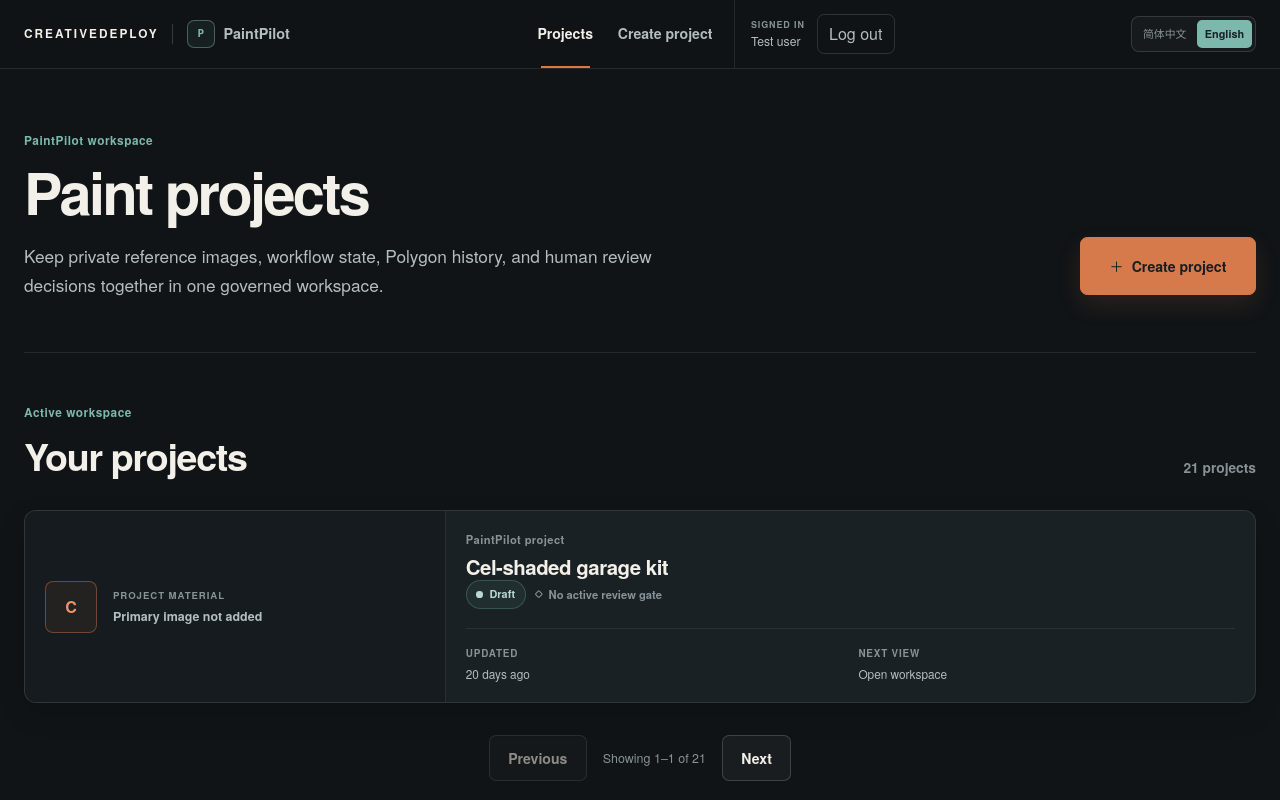
Test: Projects workspace › uses the server envelope to request the next page
Click the button "Next": click(757, 758) [722,735,791,781]
(page scrolled)
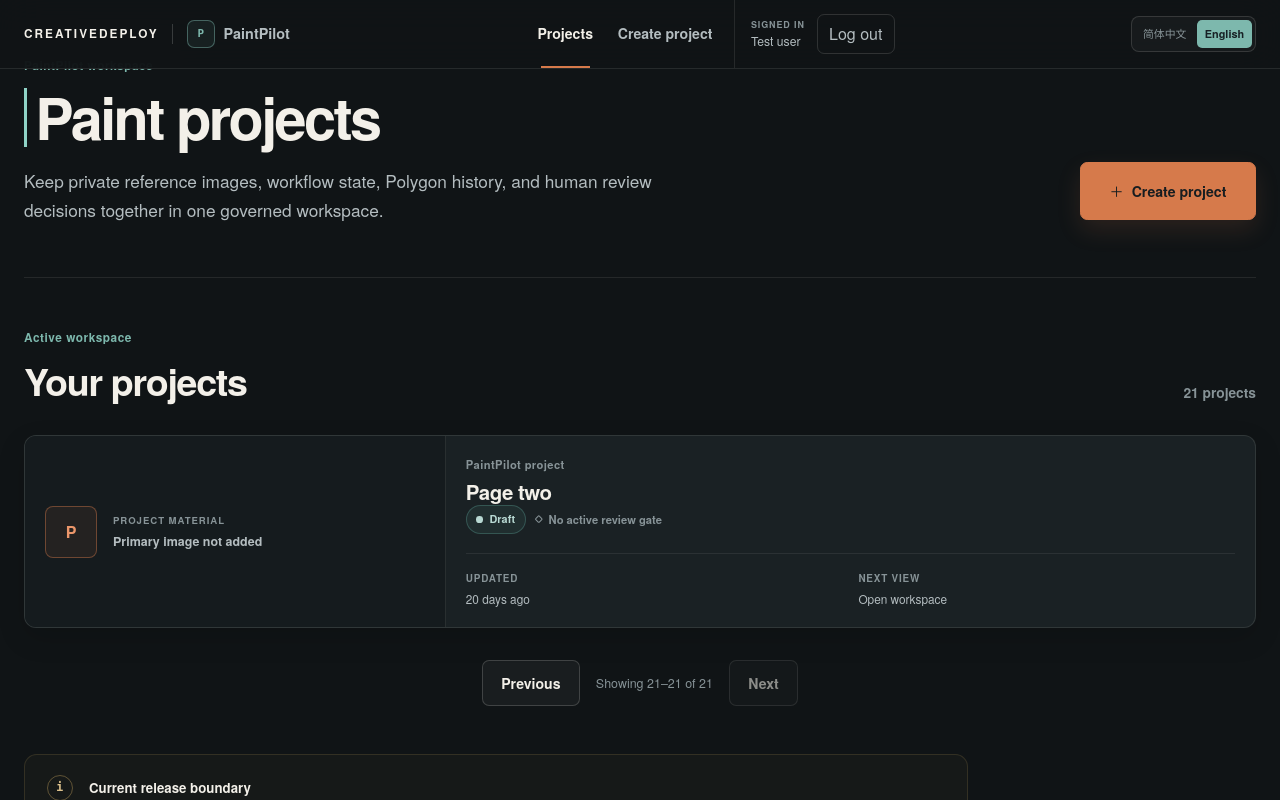
Now the heading "Page two" is shown, box [466,479,565,504]
